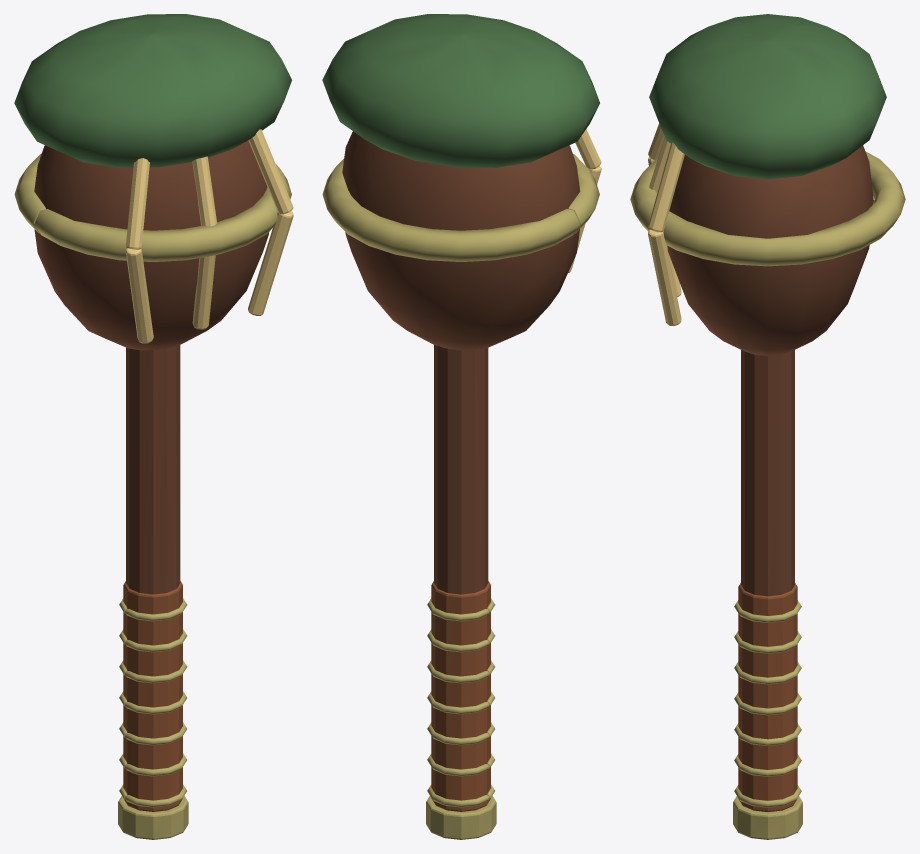
The model's file is item_047.glb.
3 renders of one model, left to right at view 1: azimuth 30°, elevation 25°; view 2: azimuth 150°, elevation 25°; view 3: azimuth 270°, elevation 25°, orthographic.
Parts seen in each view (by area): view 1: Item_047_acorn_mallet; view 2: Item_047_acorn_mallet; view 3: Item_047_acorn_mallet.
Boxes of the visible parts, x1,y1,x2,y2 form: Item_047_acorn_mallet: (14,14,293,839); Item_047_acorn_mallet: (322,14,601,839); Item_047_acorn_mallet: (630,14,905,839).
Size of the model in its own units: 0.46 by 1.38 by 0.44.
